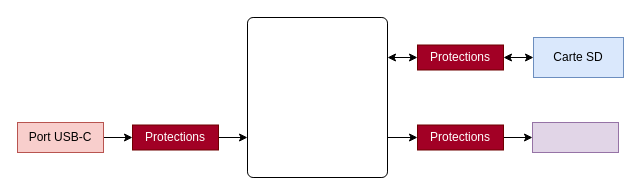
Image size: 641x195. Some labels were removed from this diagram. Here are the shapes that lost their labels. From the top down, the centre of each, then its label:
(x=317, y=97): Système
(x=575, y=137): Jack 3.5 mm
